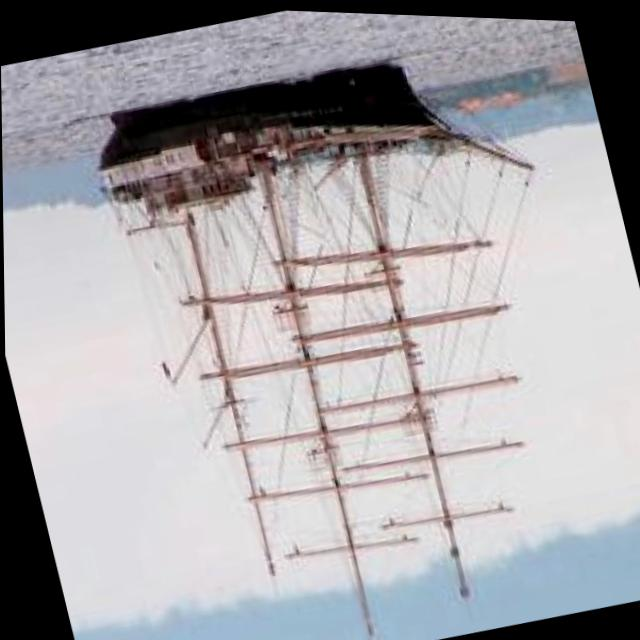ship2: (97, 61, 531, 589)
